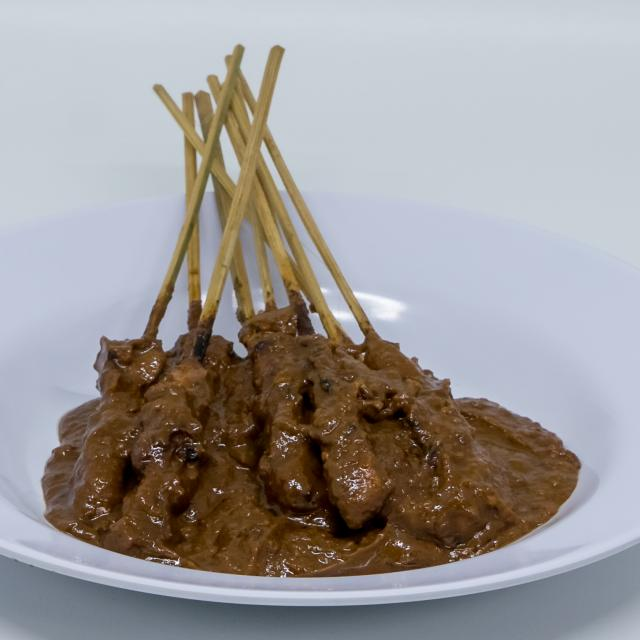Sate-Ayam: (66, 303, 518, 585)
